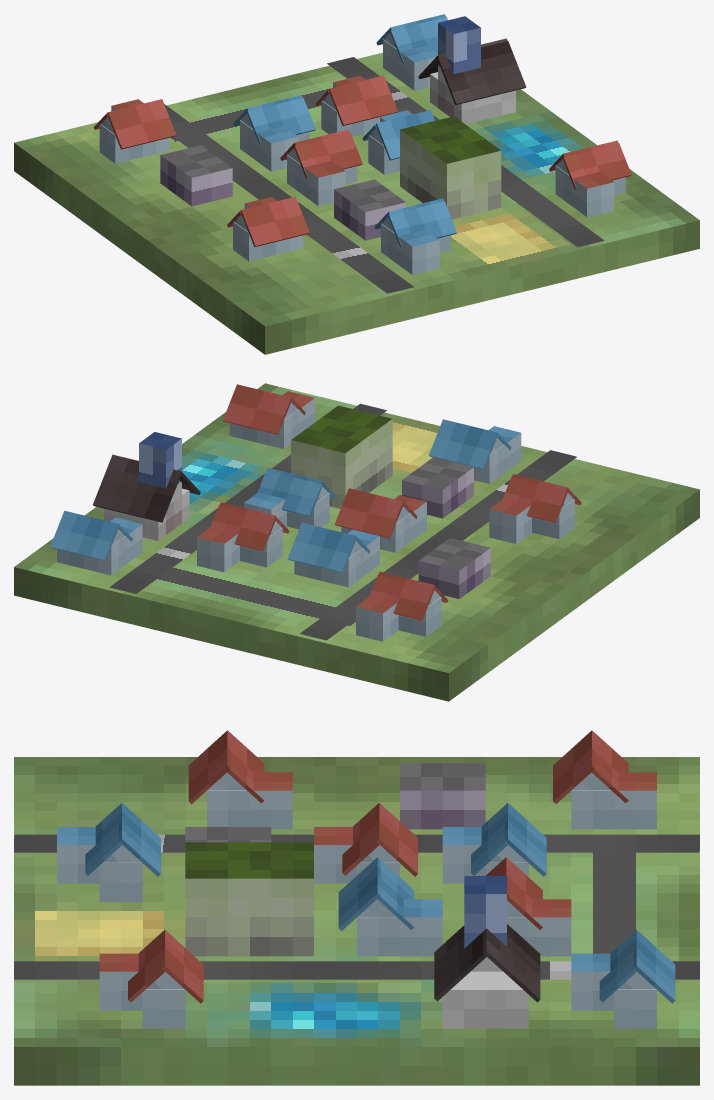
File: neighbourhood.fbx
3 views of the same model, one above another, from view 1: azimuth 30°, elevation 25°; view 2: azimuth 150°, elevation 25°; view 3: azimuth 270°, elevation 25° (orthographic). The views are drawn at different scales.
Visible parts, largest first — view 1: mesh, school, plane_1, plane, someotherweirdbuilding_1, cube_48, someotherweirdbuilding, cube_35, cube_40, cube_45, cube_2, cube_1 (+19 smaller); view 2: mesh, school, plane_1, cube_47, someotherweirdbuilding_1, plane, someotherweirdbuilding, cube_10, cube_25, cube_4, cube_30, cube_15 (+24 smaller); view 3: mesh, school, plane, someotherweirdbuilding_1, plane_1, cube_1, cube_2, cube_47, cube_34, cube_39, cube_44, cube_19 (+30 smaller).
Boxes of the visible parts, x1,y1,x2,y2 form: mesh: (14,52,699,354); school: (400,116,501,219); plane_1: (164,104,414,293); plane: (327,57,604,247); someotherweirdbuilding_1: (160,145,232,206); cube_48: (437,41,526,104); someotherweirdbuilding: (334,179,406,240); cube_35: (107,99,176,149); cube_40: (240,196,309,246); cube_45: (328,75,397,125); cube_2: (438,16,480,86); cube_1: (430,72,515,124); mesh: (14,383,699,701); school: (291,405,392,508); plane_1: (300,450,576,640); cube_47: (93,454,181,522); someotherweirdbuilding_1: (418,538,490,598); plane: (109,403,386,593); someotherweirdbuilding: (402,457,473,518); cube_10: (287,522,356,572); cube_25: (223,384,292,434); cube_4: (50,510,119,560); cube_30: (334,488,403,538); cube_15: (429,419,498,469); mesh: (14,757,699,1085); school: (185,842,313,956); plane: (14,961,699,979); someotherweirdbuilding_1: (400,763,485,829); plane_1: (14,834,699,852); cube_1: (442,971,528,1028); cube_2: (464,876,506,971); cube_47: (483,924,540,1002); cube_34: (614,772,656,829); cube_39: (249,772,292,829); cube_44: (528,899,571,956); cube_19: (400,899,442,956).
Size of the model in its own units: 500 by 125 by 500.
1 material, 1 textured.
